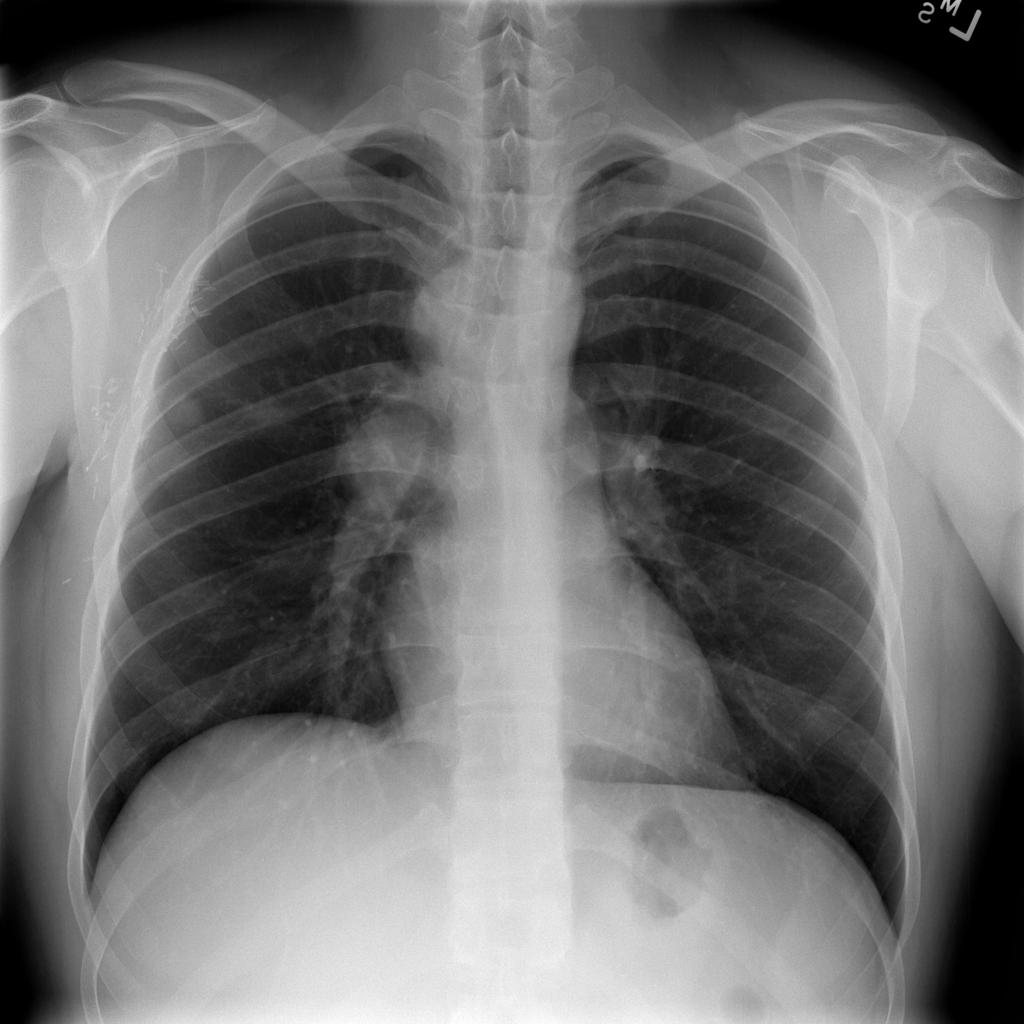nodule: (319, 372, 457, 521), (151, 371, 222, 444)
